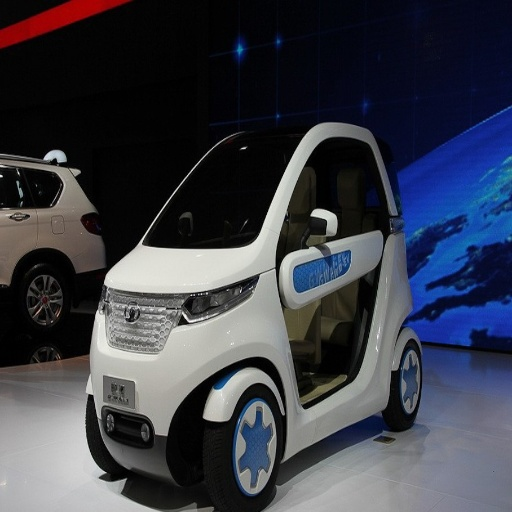back_left_door: (12, 176, 37, 250)
front_bumper: (90, 289, 252, 496)
front_glass: (144, 134, 294, 245)
front_left_door: (285, 137, 380, 404)
